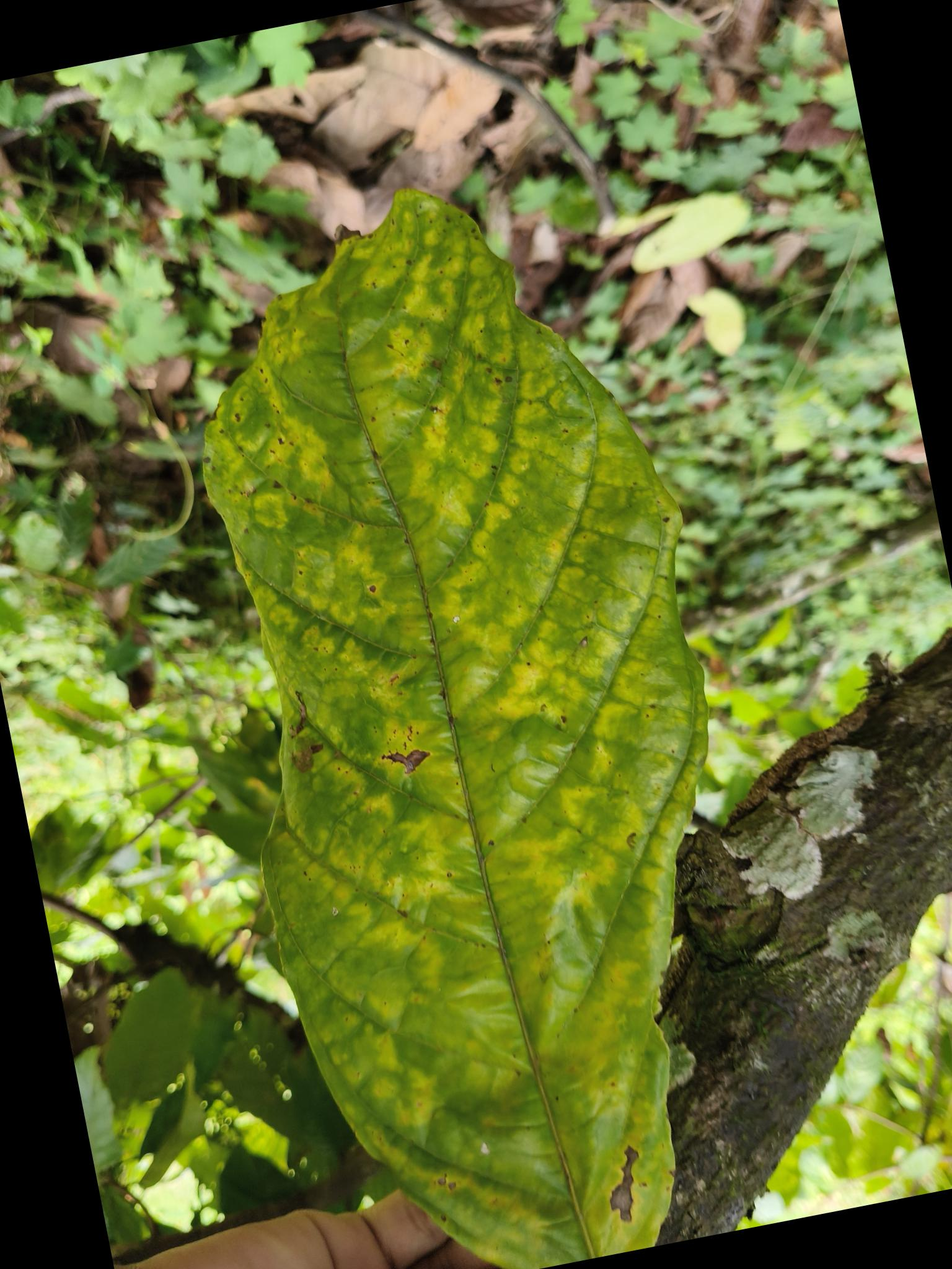Fosforo: (186, 154, 730, 1269)
